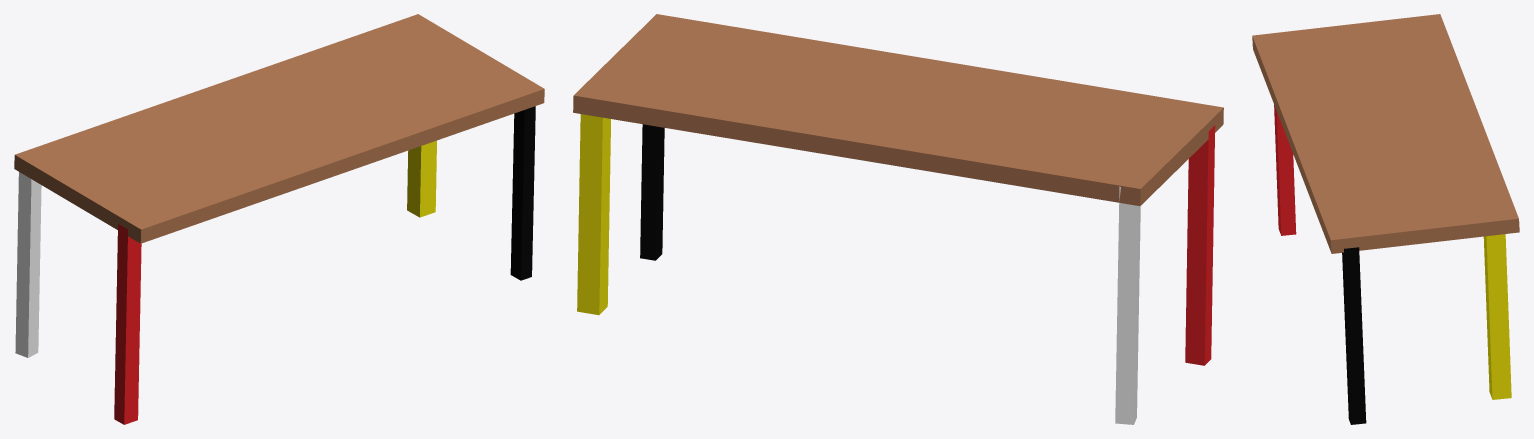
The model's file is Table top.fbx.
3 renders of one model, left to right at view 1: azimuth 30°, elevation 25°; view 2: azimuth 150°, elevation 25°; view 3: azimuth 270°, elevation 25°, orthographic. The views are drawn at different scales.
Parts seen in each view (by area): view 1: node_id11, node_id8, node_id17, node_id5, node_id14; view 2: node_id11, node_id14, node_id8, node_id17, node_id5; view 3: node_id11, node_id14, node_id5, node_id8.
Part boxes in pixels (box(x1,y1,x2,y2)): node_id11: box(14, 14, 544, 243); node_id8: box(114, 224, 141, 424); node_id17: box(15, 172, 41, 357); node_id5: box(510, 106, 535, 280); node_id14: box(407, 140, 436, 217); node_id11: box(573, 14, 1223, 205); node_id14: box(577, 114, 610, 315); node_id8: box(1185, 125, 1215, 365); node_id17: box(1115, 186, 1140, 424); node_id5: box(640, 124, 664, 260); node_id11: box(1252, 14, 1519, 253); node_id14: box(1483, 234, 1511, 399); node_id5: box(1342, 247, 1366, 424); node_id8: box(1274, 104, 1296, 235).
Bounding box in the file's own units: 0.512 × 0.2235 × 0.264.
5 materials, 4 textured.
